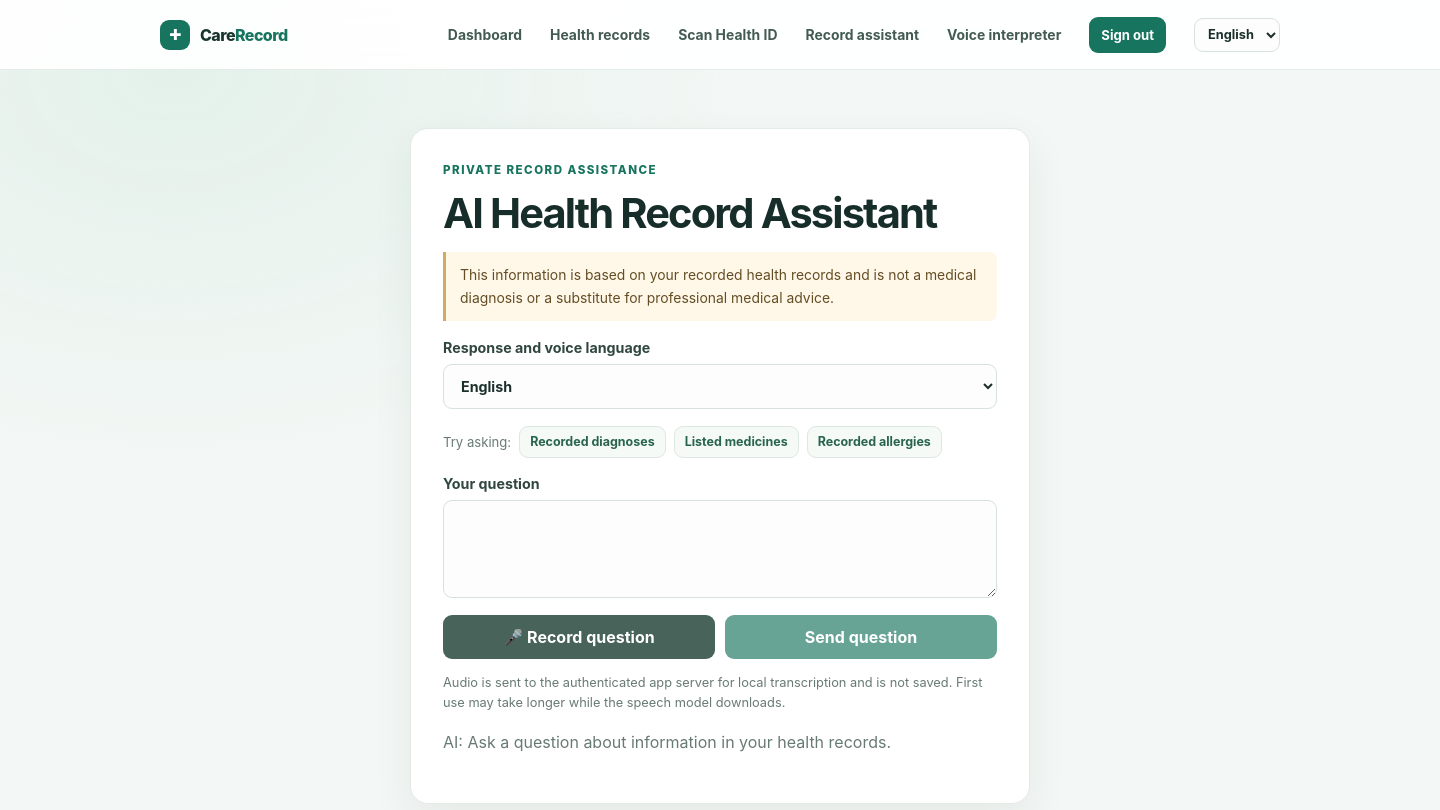
Test case: patient web flow › records and transcribes a hi voice question locally
This screenshot has width=1440, height=810.
Select "Hindi" in the dropdown labelled "Response and voice language" at (720, 386), box left=443, top=364, right=997, bottom=409
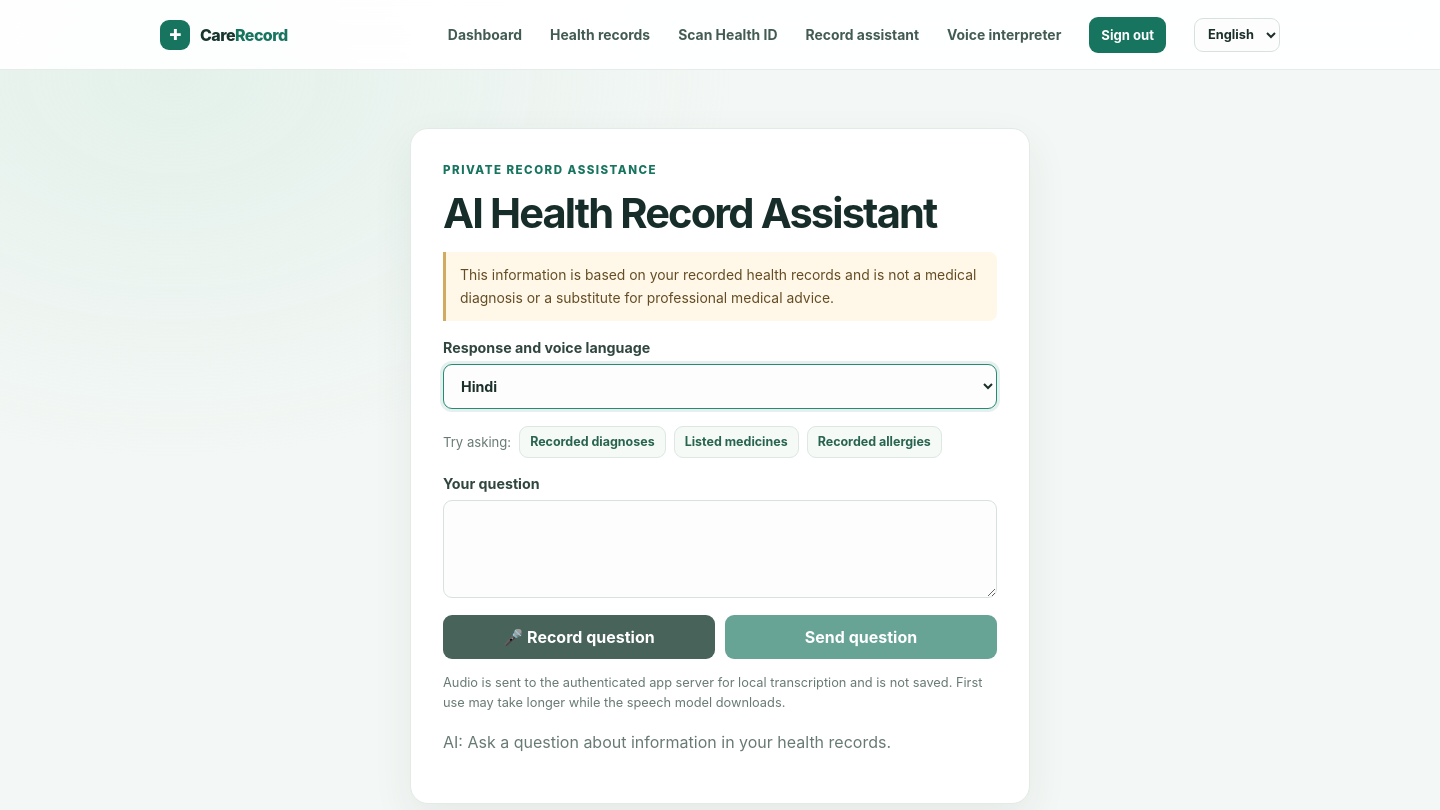
Click the button "🎤 Record question".
click(579, 637)  # box left=443, top=615, right=715, bottom=659
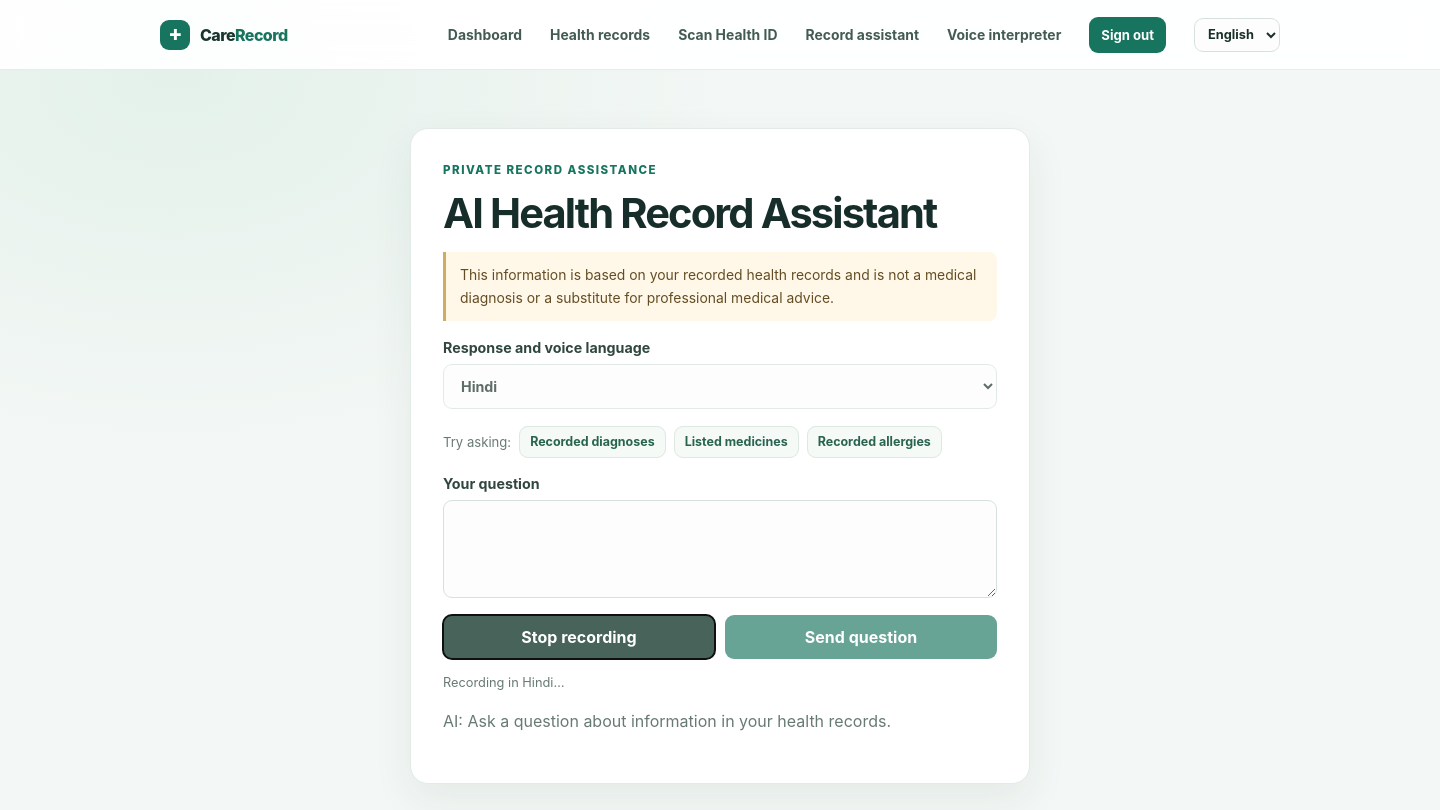
Now the button "Stop recording" is shown
Click the button "Stop recording".
click(579, 637)  # box left=443, top=615, right=715, bottom=659
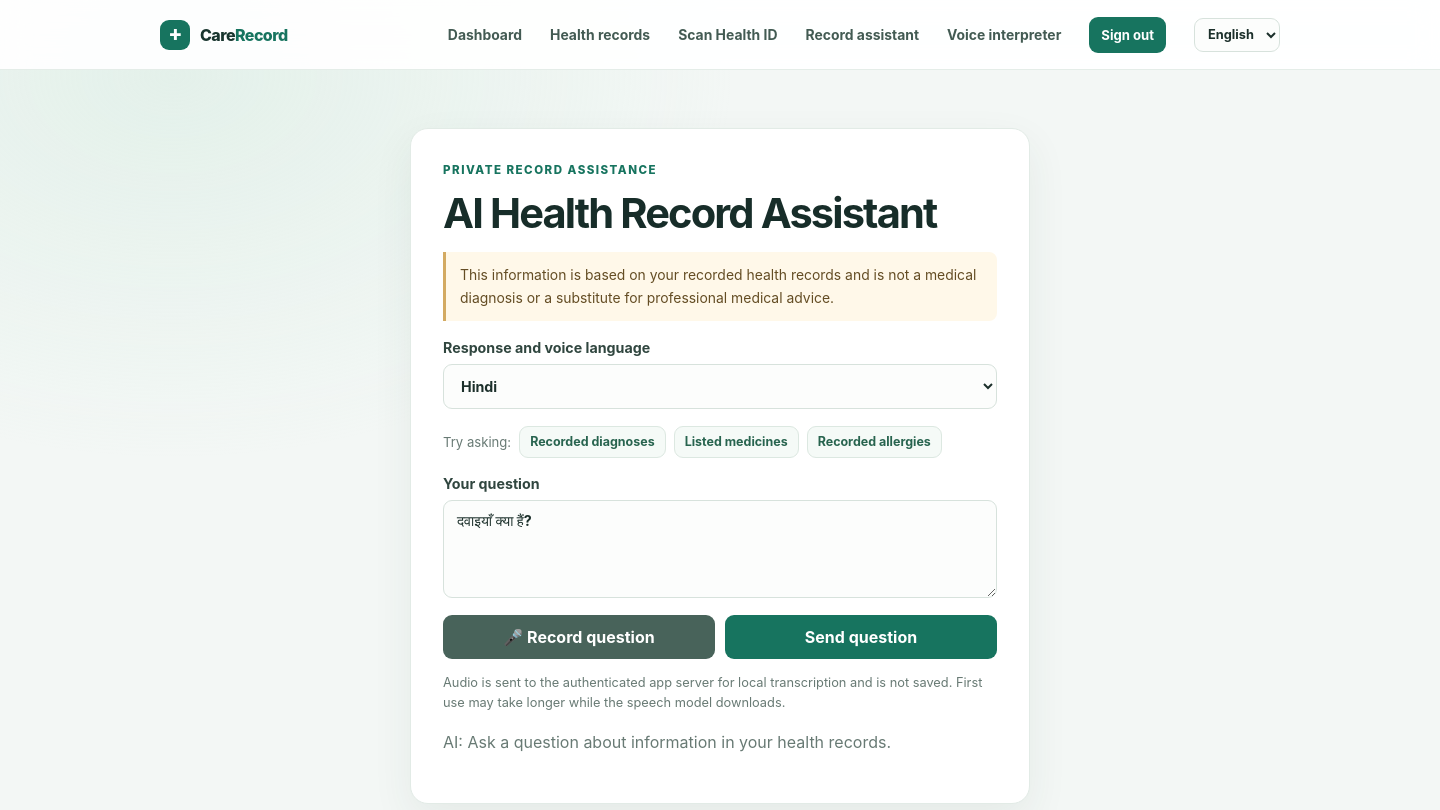
Now the text box labelled "Your question" holds "दवाइयाँ क्या हैं?", box left=443, top=500, right=997, bottom=598
